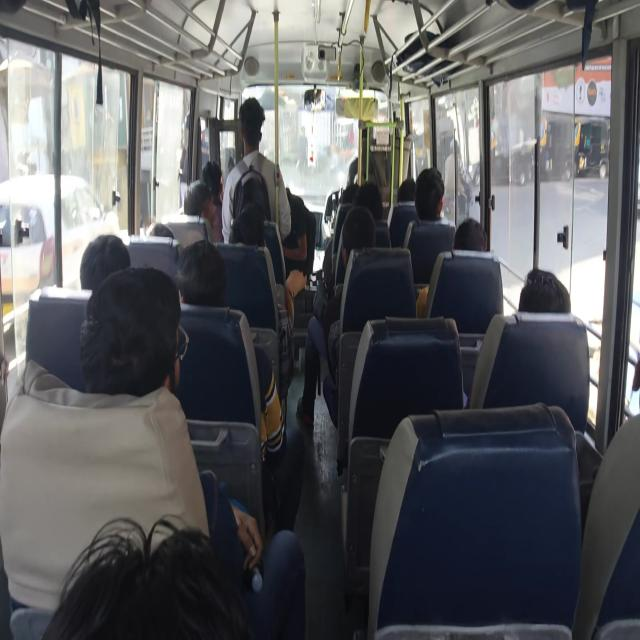person: (42, 496, 211, 640), (93, 263, 164, 370), (0, 320, 28, 508), (84, 233, 146, 311), (286, 175, 314, 314), (234, 99, 276, 167), (170, 246, 222, 286), (524, 264, 564, 306), (457, 218, 492, 260), (174, 177, 210, 217), (221, 203, 245, 250), (350, 209, 375, 254), (140, 226, 176, 253), (417, 167, 442, 205), (357, 179, 382, 203), (195, 173, 217, 196), (394, 173, 412, 196), (248, 192, 264, 214), (334, 185, 356, 198)
